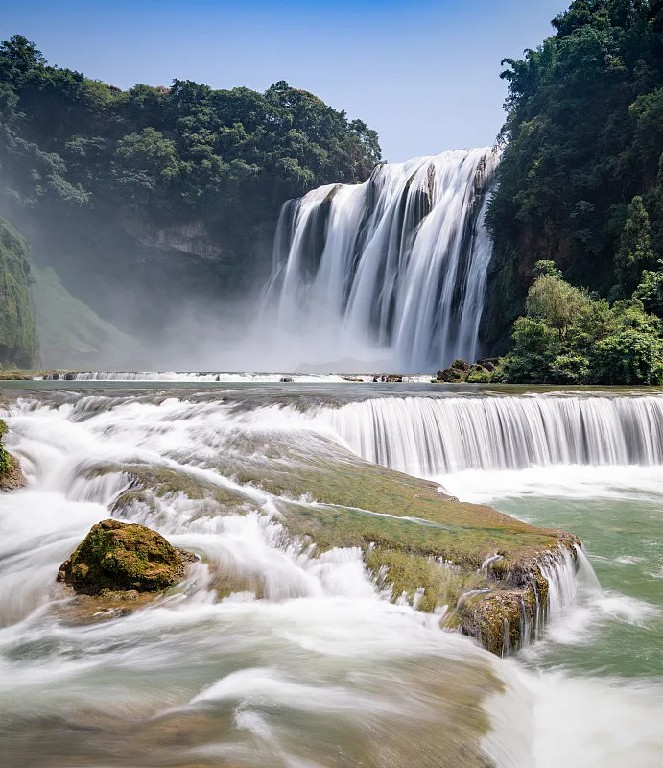Huangguoshu: (260, 146, 504, 372)
